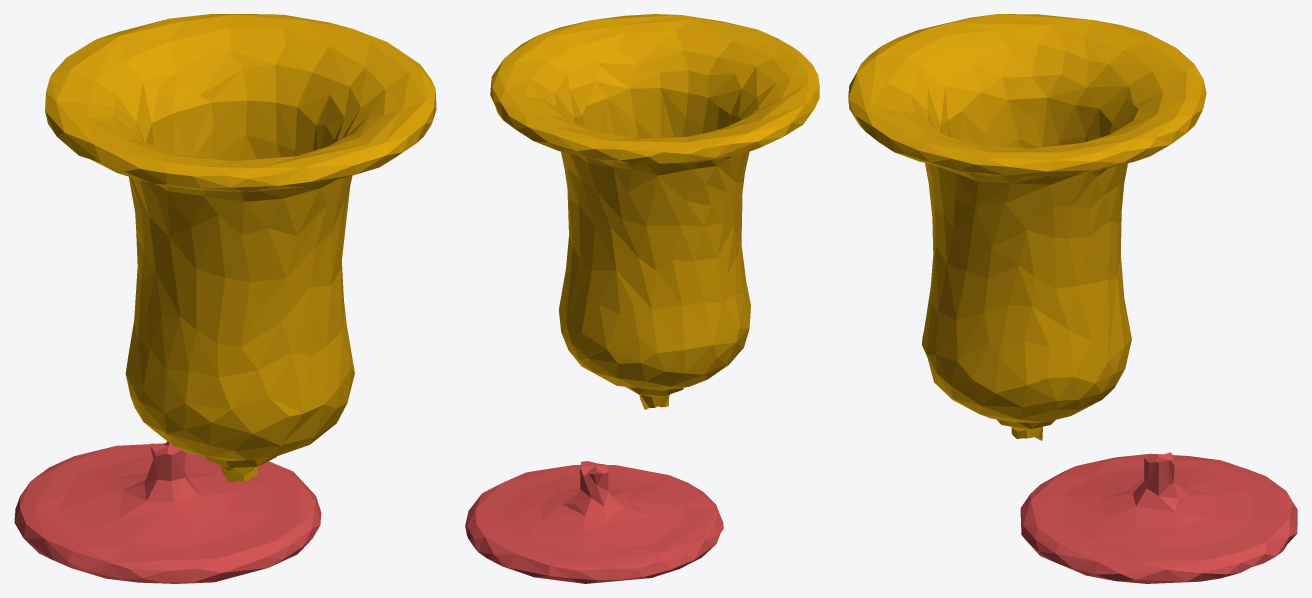
Rendered from fractured_35_2pcs_transformed.glb.
3 views of the same model, side by side, from view 1: azimuth 30°, elevation 25°; view 2: azimuth 150°, elevation 25°; view 3: azimuth 270°, elevation 25° (orthographic). The views are drawn at different scales.
Parts seen in each view (by area): view 1: piece_0.obj, piece_1.obj; view 2: piece_0.obj, piece_1.obj; view 3: piece_0.obj, piece_1.obj.
Boxes of the visible parts, x1,y1,x2,y2 form: piece_0.obj: (45, 14, 436, 482); piece_1.obj: (14, 441, 321, 583); piece_0.obj: (490, 14, 819, 409); piece_1.obj: (465, 461, 723, 583); piece_0.obj: (848, 14, 1206, 440); piece_1.obj: (1020, 452, 1297, 583).
Bounding box in the file's own units: 0.7742 × 1.06 × 0.9749.
